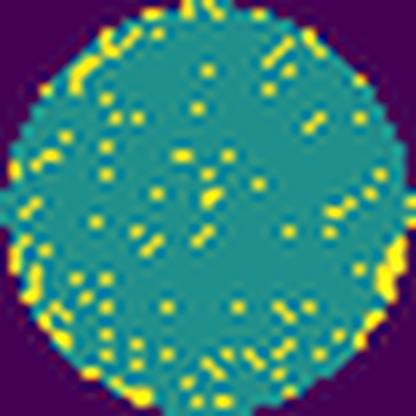Edge-Loc: (371, 233, 412, 307), (351, 311, 390, 355)
